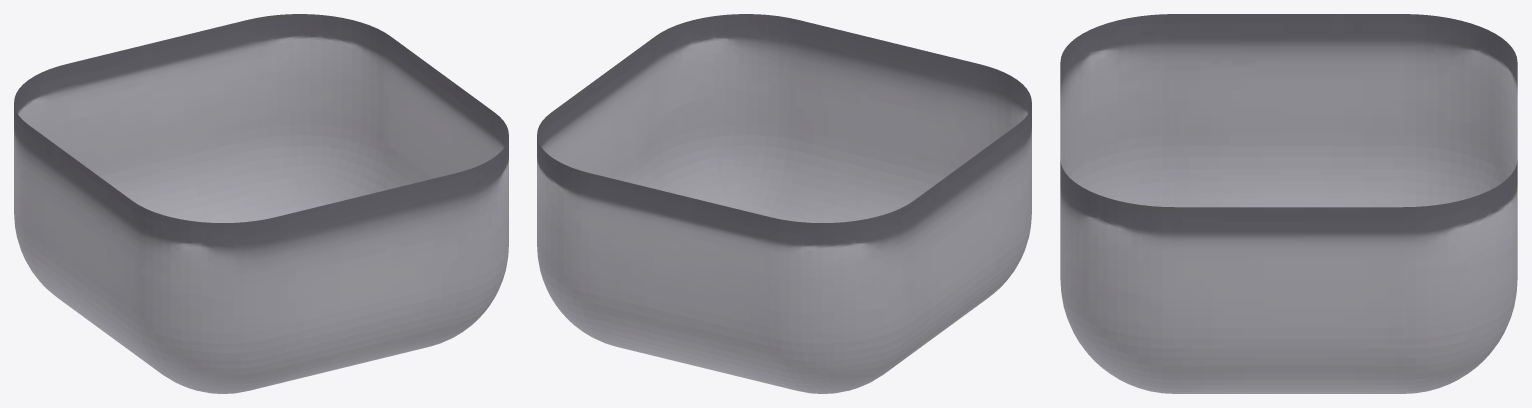
File: room_v2.low.glb
3 views of the same model, side by side, from view 1: azimuth 30°, elevation 25°; view 2: azimuth 150°, elevation 25°; view 3: azimuth 270°, elevation 25° (orthographic). The views are drawn at different scales.
Visible parts, largest first — view 1: room_shell; view 2: room_shell; view 3: room_shell.
Boxes of the visible parts, x1,y1,x2,y2 form: room_shell: [14, 14, 508, 393]; room_shell: [537, 14, 1031, 393]; room_shell: [1060, 14, 1517, 393].
Bounding box in the file's own units: 72000 × 39008 × 72000.
Materials: 6 (3 with a texture image).
